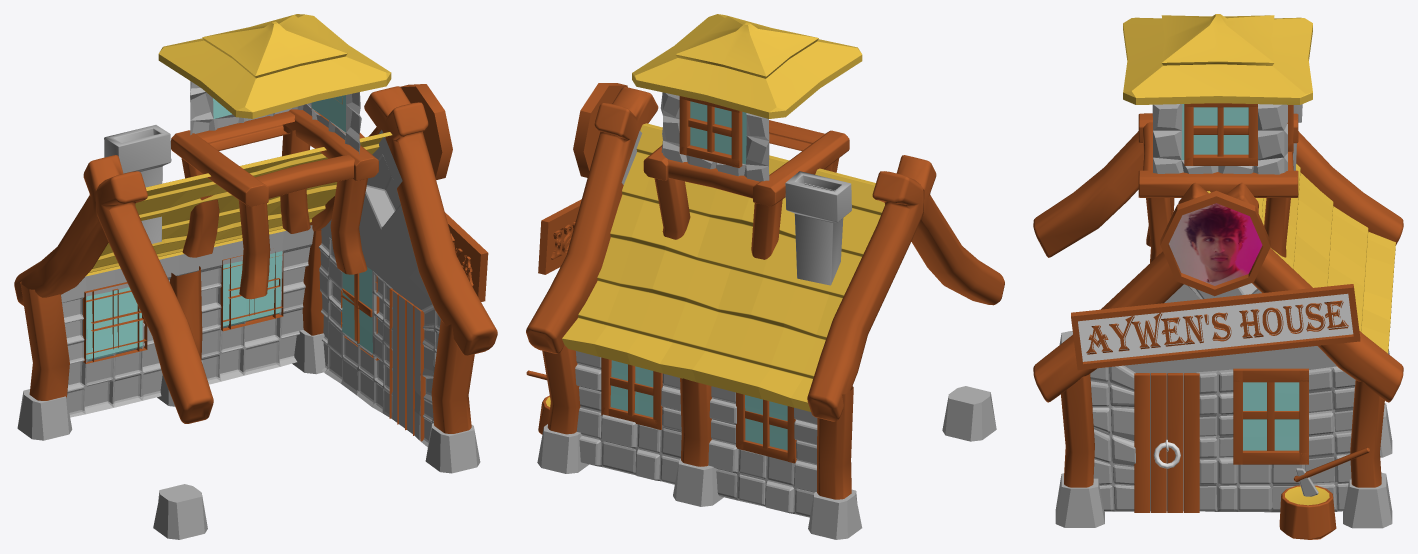
File: SM_House.fbx
The picture shows the model from 3 angles, left to right: view 1: azimuth 30°, elevation 25°; view 2: azimuth 150°, elevation 25°; view 3: azimuth 270°, elevation 25°; orthographic projection. The views are drawn at different scales.
Parts seen in each view (by area): view 1: House2murs, Townhall_01.003, Townhall_01.006, Townhall_01.009, Townhall_01.002, Townhall_01.001, Cube.002, Townhall_01.004, Pancart, Cube, Townhall_01.005; view 2: Townhall_01.001, Townhall_01.003, House2murs, Townhall_01.009, Townhall_01.006, Townhall_01.002, Cube.002, Townhall_01.005, Cube, Townhall_01.004, Pancart, Townhall_01.007; view 3: House2murs, Pancart, Townhall_01.003, Townhall_01.009, Townhall_01.004, Townhall_01.001, Cube, Townhall_01.006, Townhall_01.002, Cube.002, Buche, Townhall_01.008.
Boxes of the visible parts, left/top/right/bottom form: House2murs: left=61, top=130, right=440, bottom=447; Townhall_01.003: left=14, top=86, right=497, bottom=423; Townhall_01.006: left=171, top=109, right=378, bottom=299; Townhall_01.009: left=158, top=14, right=391, bottom=118; Townhall_01.002: left=20, top=230, right=474, bottom=433; Townhall_01.001: left=85, top=132, right=392, bottom=276; Cube.002: left=17, top=330, right=480, bottom=539; Townhall_01.004: left=83, top=252, right=425, bottom=441; Pancart: left=359, top=84, right=488, bottom=301; Cube: left=190, top=81, right=361, bottom=153; Townhall_01.005: left=104, top=125, right=171, bottom=243; Townhall_01.001: left=562, top=123, right=884, bottom=411; Townhall_01.003: left=526, top=87, right=1004, bottom=421; House2murs: left=575, top=131, right=817, bottom=517; Townhall_01.009: left=632, top=14, right=862, bottom=118; Townhall_01.006: left=643, top=120, right=849, bottom=259; Townhall_01.002: left=542, top=345, right=853, bottom=499; Cube.002: left=537, top=386, right=996, bottom=539; Townhall_01.005: left=785, top=171, right=851, bottom=285; Cube: left=660, top=92, right=769, bottom=181; Townhall_01.004: left=601, top=357, right=796, bottom=463; Pancart: left=538, top=83, right=627, bottom=274; Townhall_01.007: left=679, top=96, right=742, bottom=167; House2murs: left=1090, top=283, right=1355, bottom=512; Pancart: left=1071, top=190, right=1360, bottom=370; Townhall_01.003: left=1033, top=131, right=1403, bottom=402; Townhall_01.009: left=1123, top=14, right=1312, bottom=104; Townhall_01.004: left=1134, top=368, right=1308, bottom=512; Townhall_01.001: left=1207, top=164, right=1395, bottom=353; Cube: left=1152, top=104, right=1287, bottom=174; Townhall_01.006: left=1138, top=113, right=1298, bottom=262; Townhall_01.002: left=1061, top=374, right=1384, bottom=487; Cube.002: left=1055, top=331, right=1392, bottom=528; Buche: left=1279, top=447, right=1369, bottom=539; Townhall_01.008: left=1184, top=103, right=1257, bottom=165.
Bounding box in the file's own units: 641 × 746 × 563.
